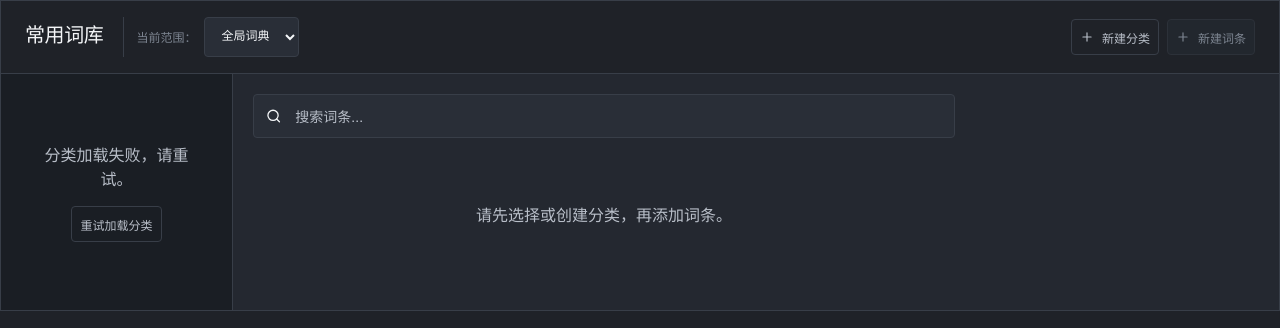
it: DictionaryView › shows retry UI when categories fail to load
This screenshot has width=1280, height=328.
Expected: the text "分类加载失败，请重试。" is shown, [33,142,200,190]
Click the button "重试加载分类". click: (116, 224)
box: [72,206,162,242]
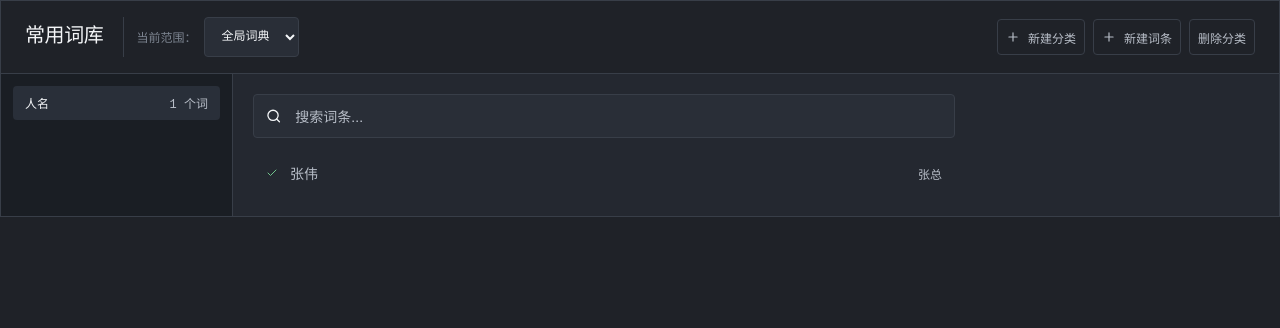
Now the text "人名" is shown, box [25,94,49,112]
